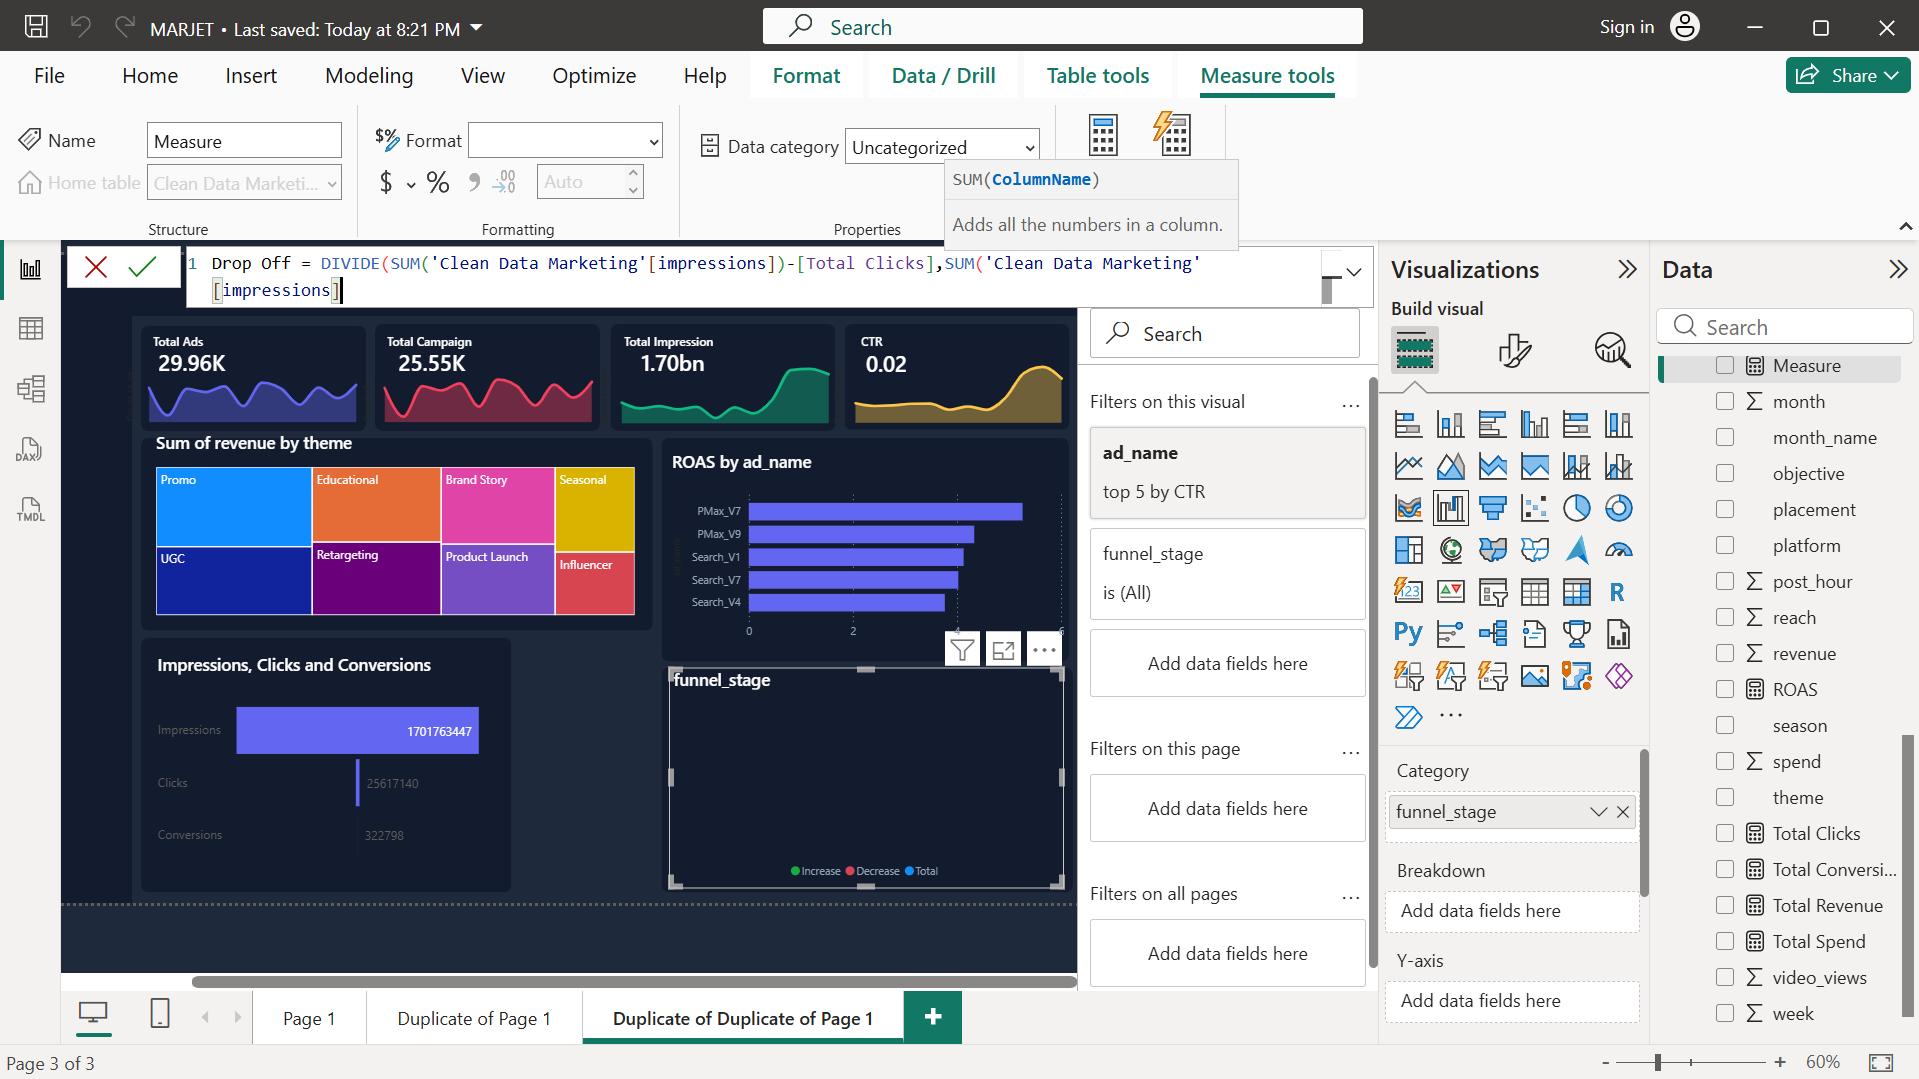

This screenshot's page, from the dashboard's own definition file:
{"tool":"powerbi","page":{"name":"    𖣠     Campaign Performance","canvas":[1280,720],"ordinal":1},"visuals":[{"type":"shape","box":[238.6,5.7,1041.4,65.7],"z":0},{"type":"shape","box":[818.6,202.9,452.9,248.6],"z":1000},{"type":"shape","box":[818.3,458.3,456.7,255],"z":2000},{"type":"shape","box":[240,430,568.3,283.3],"z":3000},{"type":"shape","box":[760.8,76.2,250,118.8],"z":4000},{"type":"shape","box":[240,202.9,568.6,214.3],"z":5000},{"type":"shape","box":[0,0,230,720],"z":6000},{"type":"shape","box":[240,77.9,250,117.5],"z":7000},{"type":"card","title":"Total Ads","fields":{"Values":["Count(Clean Data Marketing.ad_id)"]},"box":[249,87,95,56],"z":8000},{"type":"lineChart","fields":{"Category":["Clean Data Marketing.ad_date.Variation.Date Hierarchy.Month"],"Y":["Count(Clean Data Marketing.ad_id)"]},"box":[240,108.6,250,82.9],"z":9000},{"type":"shape","box":[1021.2,77.5,250,117.5],"z":10000},{"type":"shape","box":[500.4,77.1,250,118.8],"z":11000},{"type":"card","title":"Total Campaign","fields":{"Values":["Count(Clean Data Marketing.campaign_id)"]},"box":[508,87,108.6,55.7],"z":12000},{"type":"lineChart","fields":{"Category":["Clean Data Marketing.ad_date.Variation.Date Hierarchy.Month"],"Y":["Count(Clean Data Marketing.campaign_id)"]},"box":[500.7,123.6,250,68.6],"z":13000},{"type":"lineChart","fields":{"Category":["Clean Data Marketing.ad_date.Variation.Date Hierarchy.Month"],"Y":["Sum(Clean Data Marketing.impressions)"]},"box":[760.7,108.6,250,84.3],"z":14000},{"type":"card","title":"Total Impression","fields":{"Values":["Sum(Clean Data Marketing.impressions)"]},"box":[772,87,118,56],"z":15000},{"type":"card","title":"Click Through Rate","fields":{"Values":["Clean Data Marketing.CTR"]},"box":[1035,87.5,137.5,56.2],"z":16000},{"type":"lineChart","fields":{"Category":["Clean Data Marketing.ad_date.Variation.Date Hierarchy.Month"],"Y":["Sum(Clean Data Marketing.conversions)"]},"box":[1021.4,108.6,250,84.3],"z":17000},{"type":"treemap","fields":{"Values":["Sum(Clean Data Marketing.revenue)"],"Group":["Clean Data Marketing.theme"]},"box":[251.7,216.7,541.7,188.3],"z":18000},{"type":"barChart","fields":{"Category":["Clean Data Marketing.ad_name"],"Y":["Clean Data Marketing.CTR"]},"box":[826.7,460,438.3,245],"z":19000},{"type":"scatterChart","fields":{"Category":["Clean Data Marketing.campaign_id"],"X":["Sum(Clean Data Marketing.revenue)"],"Y":["Sum(Clean Data Marketing.spend)"]},"box":[256.2,436.2,535,265],"z":20000},{"type":"barChart","fields":{"Category":["Clean Data Marketing.ad_name"],"Y":["Clean Data Marketing.ROAS"]},"box":[825.8,217.3,446,219.2],"z":21000},{"type":"pageNavigator","box":[2.9,167.9,224.3,226.4],"z":22000},{"type":"textbox","box":[82.2,18.9,143.3,91.1],"z":23000},{"type":"textbox","box":[10,131.1,116.7,31.1],"z":24000},{"type":"textbox","box":[10,415.6,116.7,31.1],"z":25000},{"type":"group","id":"g1","title":"Group 1","box":[14.8,498,191.9,38.7],"z":26000},{"type":"slicer","fields":{"Values":["Clean Data Marketing.Country"]},"box":[15.6,454.7,191.3,33.3],"z":27000,"group":"g3"},{"type":"slicer","fields":{"Values":["Clean Data Marketing.Country"]},"box":[14.8,498,191.9,35.3],"z":27000,"group":"g1"},{"type":"group","id":"g2","title":"Group 1","box":[15,545.3,191.7,36.4],"z":27000},{"type":"slicer","fields":{"Values":["Clean Data Marketing.Country"]},"box":[19.2,545.3,187.4,33.3],"z":27000,"group":"g2"},{"type":"group","id":"g3","title":"Group 1","box":[14.3,454.7,192.7,36.2],"z":28000},{"type":"textbox","box":[14.3,460.3,73.3,30.7],"z":28000,"group":"g3"},{"type":"textbox","box":[14.9,504,124,32.7],"z":28000,"group":"g1"},{"type":"textbox","box":[15,551.7,106,30],"z":28000,"group":"g2"},{"type":"textbox","box":[260,1.7,333.3,73.3],"z":29000},{"type":"textbox","box":[1110,18.3,165,50],"z":30000},{"type":"image","box":[25.6,16.7,51.1,92.2],"z":31000}]}

Visuals, with their boxes on the page's 1280x720 design canvas (x1, y1, x2, y2). These are canvas units, not pixel positions in the 1919x1079 screenshot, which may show the page scaled, cropped or inside an application window:
shape: x1=239 y1=6 x2=1280 y2=71
shape: x1=819 y1=203 x2=1272 y2=452
shape: x1=818 y1=458 x2=1275 y2=713
shape: x1=240 y1=430 x2=808 y2=713
shape: x1=761 y1=76 x2=1011 y2=195
shape: x1=240 y1=203 x2=809 y2=417
shape: x1=0 y1=0 x2=230 y2=720
shape: x1=240 y1=78 x2=490 y2=195
"Total Ads" card: x1=249 y1=87 x2=344 y2=143
lineChart - Clean Data Marketing.ad_date.Variation.Date Hierarchy.Month x Count(Clean Data Marketing.ad_id): x1=240 y1=109 x2=490 y2=192
shape: x1=1021 y1=78 x2=1271 y2=195
shape: x1=500 y1=77 x2=750 y2=196
"Total Campaign" card: x1=508 y1=87 x2=617 y2=143
lineChart - Clean Data Marketing.ad_date.Variation.Date Hierarchy.Month x Count(Clean Data Marketing.campaign_id): x1=501 y1=124 x2=751 y2=192
lineChart - Clean Data Marketing.ad_date.Variation.Date Hierarchy.Month x Sum(Clean Data Marketing.impressions): x1=761 y1=109 x2=1011 y2=193
"Total Impression" card: x1=772 y1=87 x2=890 y2=143
"Click Through Rate" card: x1=1035 y1=88 x2=1172 y2=144
lineChart - Clean Data Marketing.ad_date.Variation.Date Hierarchy.Month x Sum(Clean Data Marketing.conversions): x1=1021 y1=109 x2=1271 y2=193
treemap - Sum(Clean Data Marketing.revenue) x Clean Data Marketing.theme: x1=252 y1=217 x2=793 y2=405
barChart - Clean Data Marketing.ad_name x Clean Data Marketing.CTR: x1=827 y1=460 x2=1265 y2=705
scatterChart - Clean Data Marketing.campaign_id x Sum(Clean Data Marketing.revenue): x1=256 y1=436 x2=791 y2=701
barChart - Clean Data Marketing.ad_name x Clean Data Marketing.ROAS: x1=826 y1=217 x2=1272 y2=436
pageNavigator: x1=3 y1=168 x2=227 y2=394
textbox: x1=82 y1=19 x2=226 y2=110
textbox: x1=10 y1=131 x2=127 y2=162
textbox: x1=10 y1=416 x2=127 y2=447
"Group 1" group: x1=15 y1=498 x2=207 y2=537
slicer - Clean Data Marketing.Country: x1=16 y1=455 x2=207 y2=488
slicer - Clean Data Marketing.Country: x1=15 y1=498 x2=207 y2=533
"Group 1" group: x1=15 y1=545 x2=207 y2=582
slicer - Clean Data Marketing.Country: x1=19 y1=545 x2=207 y2=579
"Group 1" group: x1=14 y1=455 x2=207 y2=491
textbox: x1=14 y1=460 x2=88 y2=491
textbox: x1=15 y1=504 x2=139 y2=537
textbox: x1=15 y1=552 x2=121 y2=582
textbox: x1=260 y1=2 x2=593 y2=75
textbox: x1=1110 y1=18 x2=1275 y2=68
image: x1=26 y1=17 x2=77 y2=109
